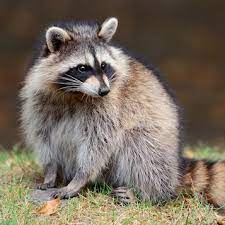raccoon: (22, 19, 225, 210)
